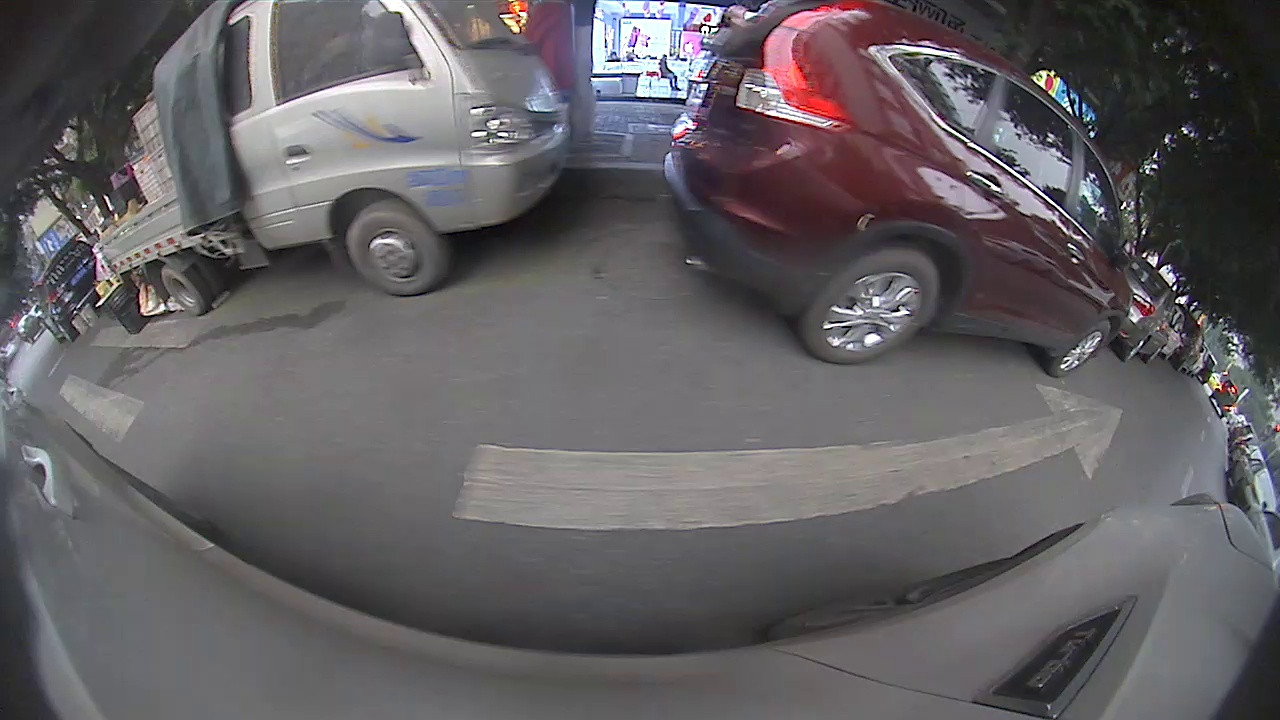car: (664, 2, 1130, 377)
front: (344, 209, 448, 298), (1053, 319, 1114, 378)
rear: (804, 252, 946, 364), (160, 266, 208, 317)
truck: (88, 2, 569, 316)
